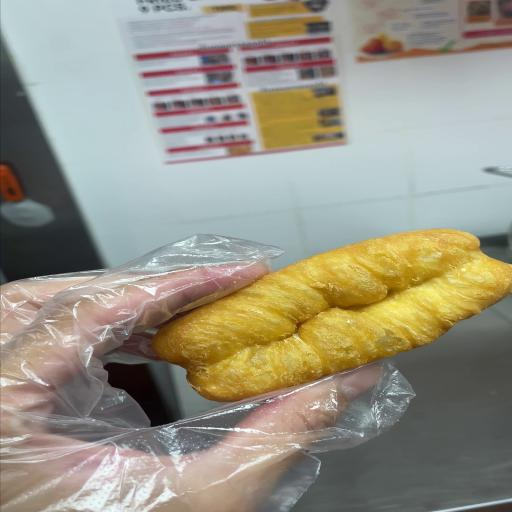brand_golden_good: (154, 229, 512, 401)
